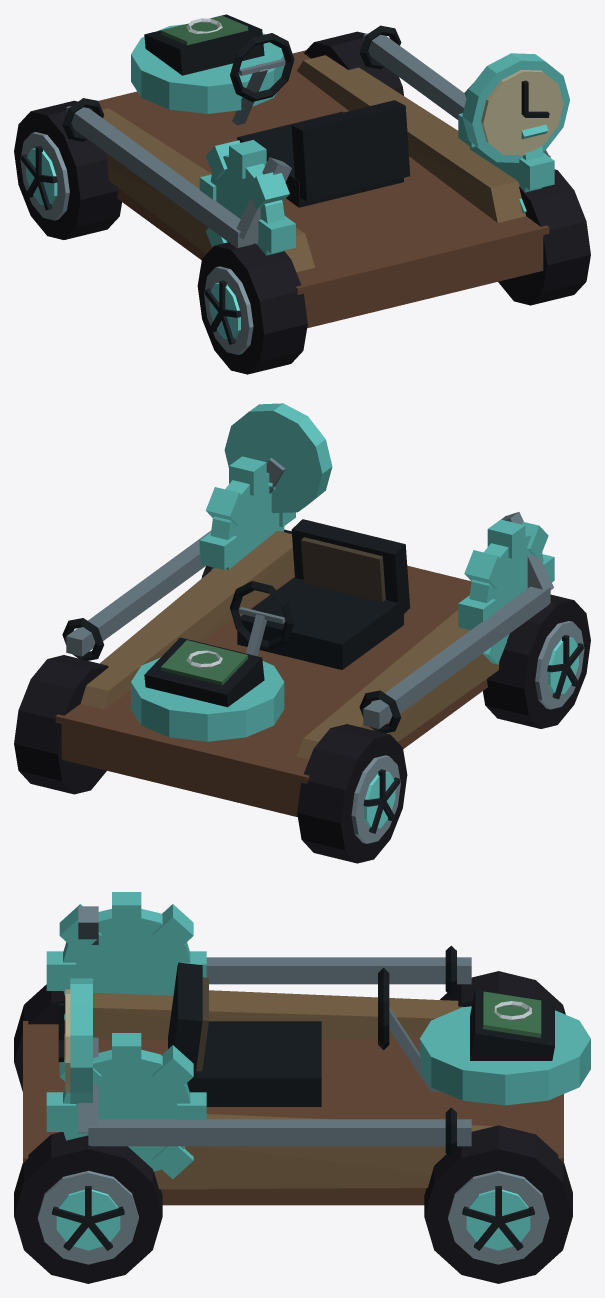
Rendered from kart.glb.
The picture shows the model from 3 angles, top to bottom: view 1: azimuth 30°, elevation 25°; view 2: azimuth 150°, elevation 25°; view 3: azimuth 270°, elevation 25°; orthographic projection. The views are drawn at different scales.
Visible parts, largest first — view 1: identity-clockwork-clockwork-brass-escapement, identity-clockwork-driver-cockpit, wheel-rear-left, identity-clockwork-motif-pipes, wheel-front-left, identity-clockwork-motif-clock, wheel-rear-right, identity-clockwork-motif-scanner, wheel-front-right; view 2: identity-clockwork-clockwork-brass-escapement, identity-clockwork-driver-cockpit, identity-clockwork-motif-pipes, wheel-front-left, wheel-rear-left, wheel-front-right, identity-clockwork-motif-clock, identity-clockwork-motif-scanner; view 3: identity-clockwork-clockwork-brass-escapement, identity-clockwork-motif-pipes, wheel-front-right, wheel-rear-right, identity-clockwork-driver-cockpit, identity-clockwork-motif-scanner, identity-clockwork-motif-clock, wheel-front-left, wheel-rear-left.
Boxes of the visible parts, bbox=[...] form: identity-clockwork-clockwork-brass-escapement: bbox=[98, 24, 554, 328]; identity-clockwork-driver-cockpit: bbox=[230, 33, 410, 207]; wheel-rear-left: bbox=[197, 242, 307, 374]; identity-clockwork-motif-pipes: bbox=[62, 25, 550, 247]; wheel-front-left: bbox=[14, 100, 121, 239]; identity-clockwork-motif-clock: bbox=[462, 53, 569, 162]; wheel-rear-right: bbox=[498, 169, 590, 305]; identity-clockwork-motif-scanner: bbox=[144, 14, 264, 75]; wheel-front-right: bbox=[304, 31, 403, 95]; identity-clockwork-clockwork-brass-escapement: bbox=[55, 456, 554, 816]; identity-clockwork-driver-cockpit: bbox=[230, 519, 410, 669]; identity-clockwork-motif-pipes: bbox=[62, 458, 553, 733]; wheel-front-left: bbox=[297, 724, 407, 863]; wheel-rear-left: bbox=[483, 594, 590, 728]; wheel-front-right: bbox=[14, 655, 108, 794]; identity-clockwork-motif-clock: bbox=[224, 403, 332, 513]; identity-clockwork-motif-scanner: bbox=[144, 637, 264, 707]; identity-clockwork-clockwork-brass-escapement: bbox=[23, 892, 590, 1205]; identity-clockwork-motif-pipes: bbox=[78, 906, 471, 1157]; wheel-front-right: bbox=[424, 1125, 572, 1283]; wheel-rear-right: bbox=[14, 1132, 162, 1283]; identity-clockwork-driver-cockpit: bbox=[168, 962, 441, 1106]; identity-clockwork-motif-scanner: bbox=[470, 989, 554, 1060]; identity-clockwork-motif-clock: bbox=[58, 978, 92, 1103]; wheel-front-left: bbox=[440, 971, 565, 1014]; wheel-rear-left: bbox=[14, 984, 65, 1091].
Bounding box in the file's own units: 1.99 × 1.35 × 2.56.
